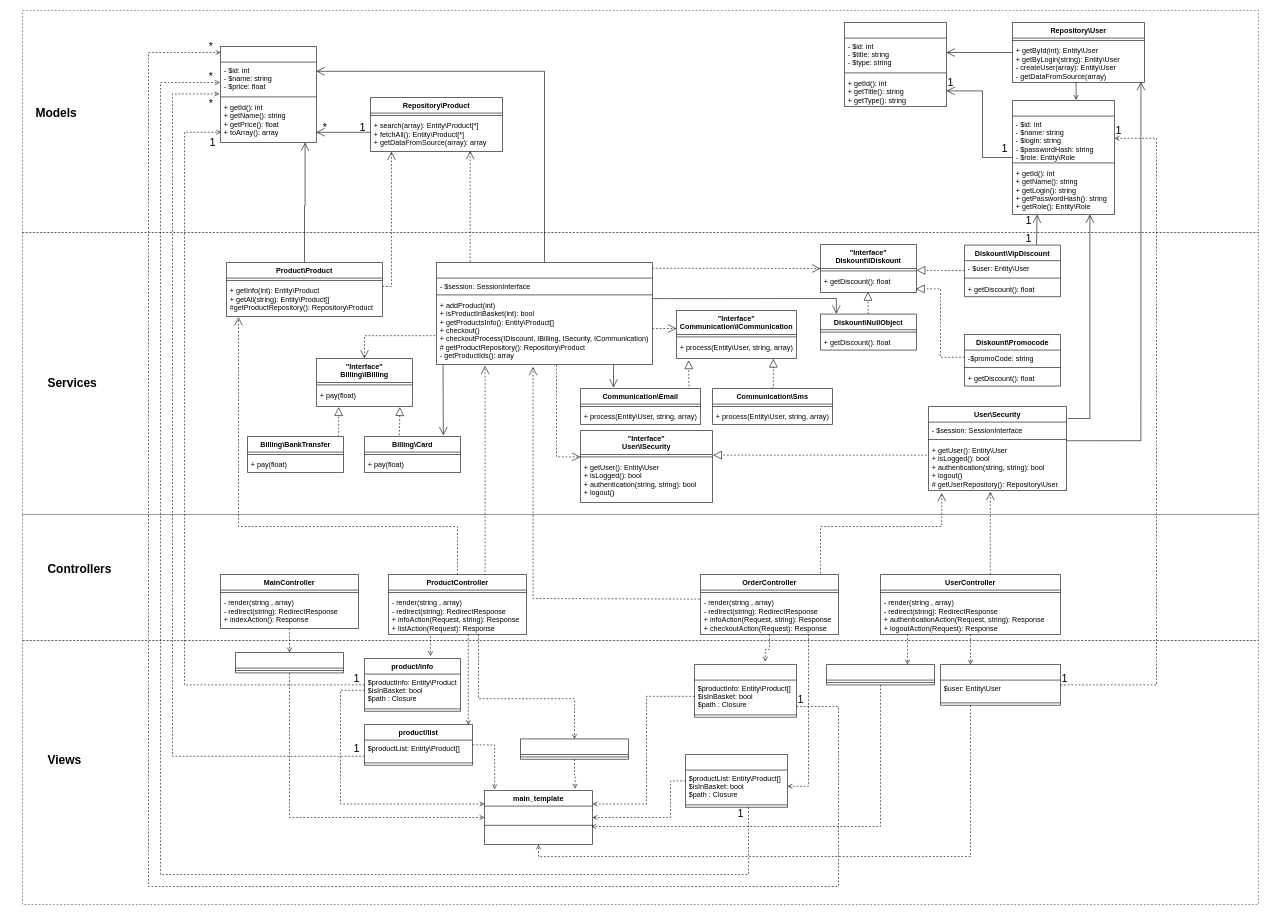
Some shapes in this 1269 by 915 pixel diagram are drawn without their labels. The box of each missing label's shape, as (x1, y1, x2, y2) in pixels:
Entity\Product: (220, 46, 316, 142)
Entity\Role: (844, 22, 946, 106)
Entity\User: (1012, 100, 1114, 214)
error404: (520, 738, 628, 759)
main/index: (235, 652, 344, 673)
order/checkout: (694, 664, 796, 717)
order/info: (685, 754, 788, 807)
Order\Basket: (436, 262, 652, 364)
user/authentiaction: (826, 664, 934, 685)
user/authentiaction_succes: (940, 664, 1060, 705)
